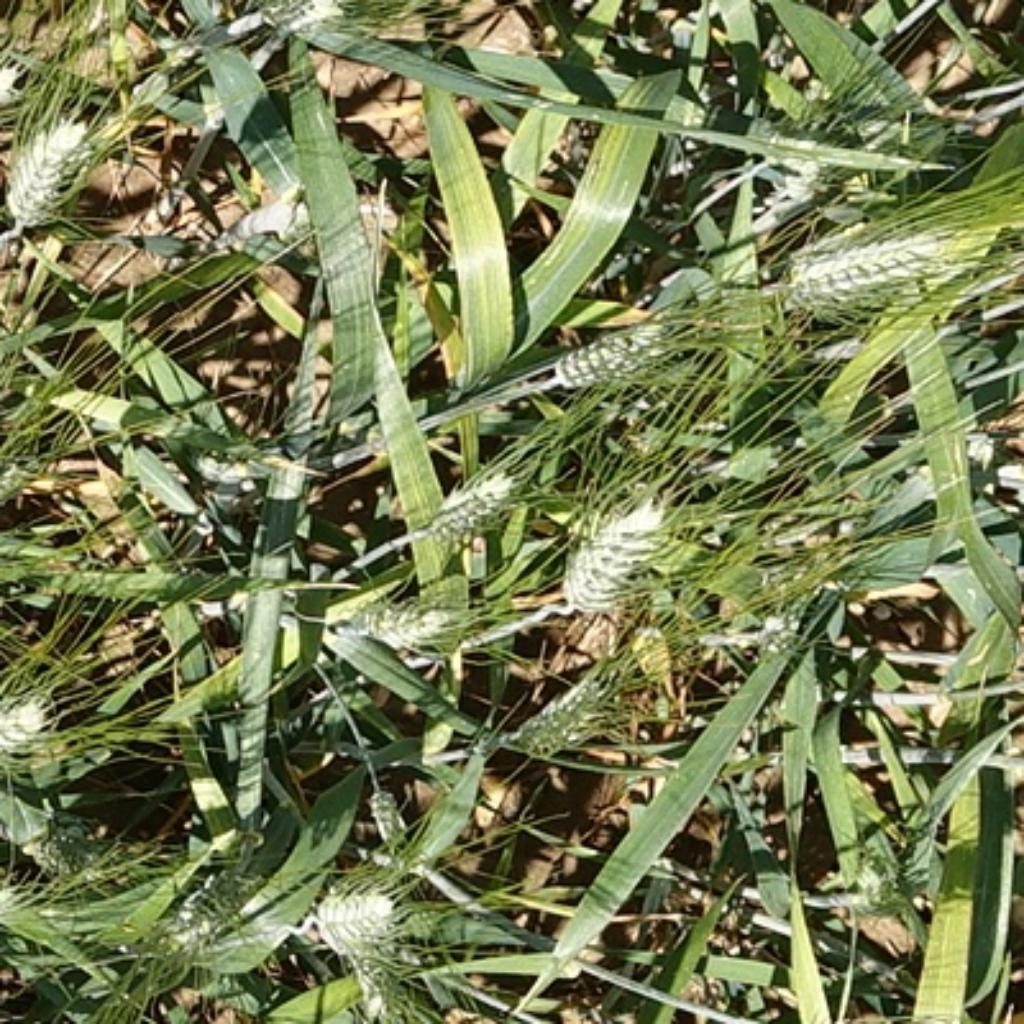0-0: (770, 222, 989, 323), (552, 478, 673, 609), (138, 869, 286, 972), (745, 113, 873, 223), (537, 302, 693, 391), (503, 660, 631, 765), (325, 573, 481, 655), (0, 102, 99, 222), (412, 448, 527, 550), (317, 924, 409, 1024), (304, 872, 404, 954), (29, 813, 126, 892), (820, 855, 907, 926), (184, 437, 284, 488), (249, 0, 349, 50), (0, 678, 56, 762), (742, 596, 811, 663), (0, 46, 48, 128), (360, 773, 409, 842), (0, 456, 37, 528), (0, 875, 18, 941)
